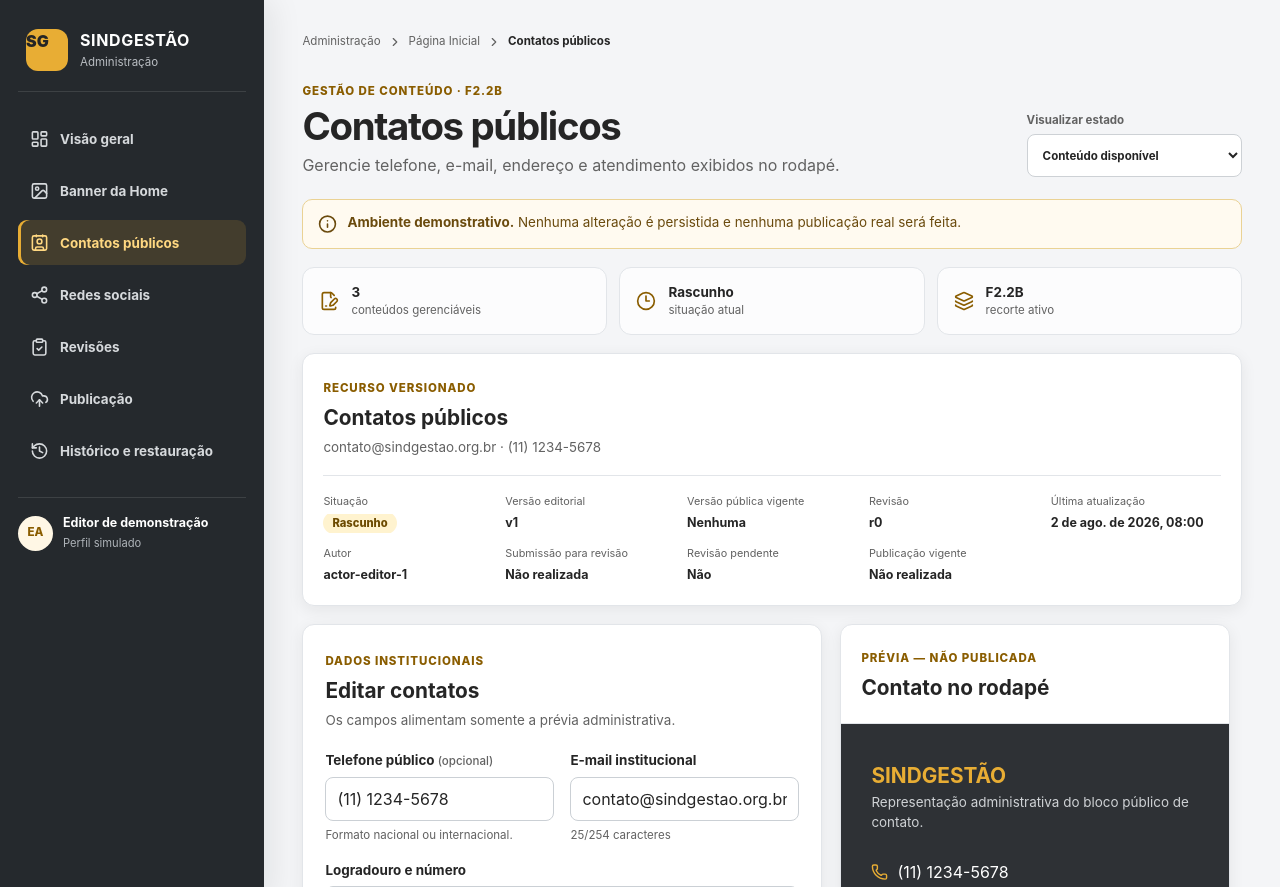
Test: F2.2B contacts editor › updates the footer preview from typed data
Replace the text in the field labelled "E-mail institucional 25/254 caracteres" with "novo@sindgestao.org.br" at (685, 799), box top-left (570, 777), bottom-right (799, 821)
(page scrolled)
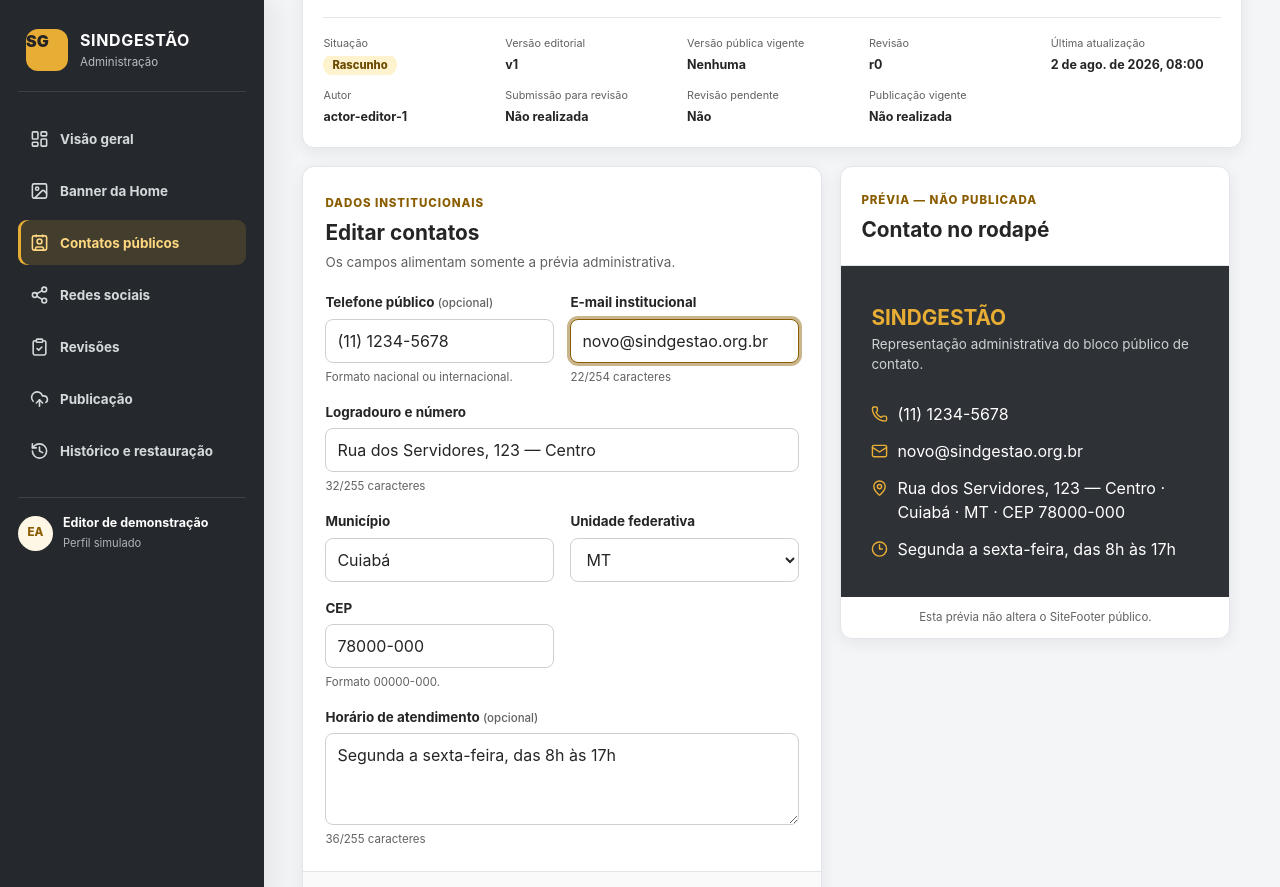
Check: the link "novo@sindgestao.org.br" is shown, box top-left (897, 439), bottom-right (1083, 463)
